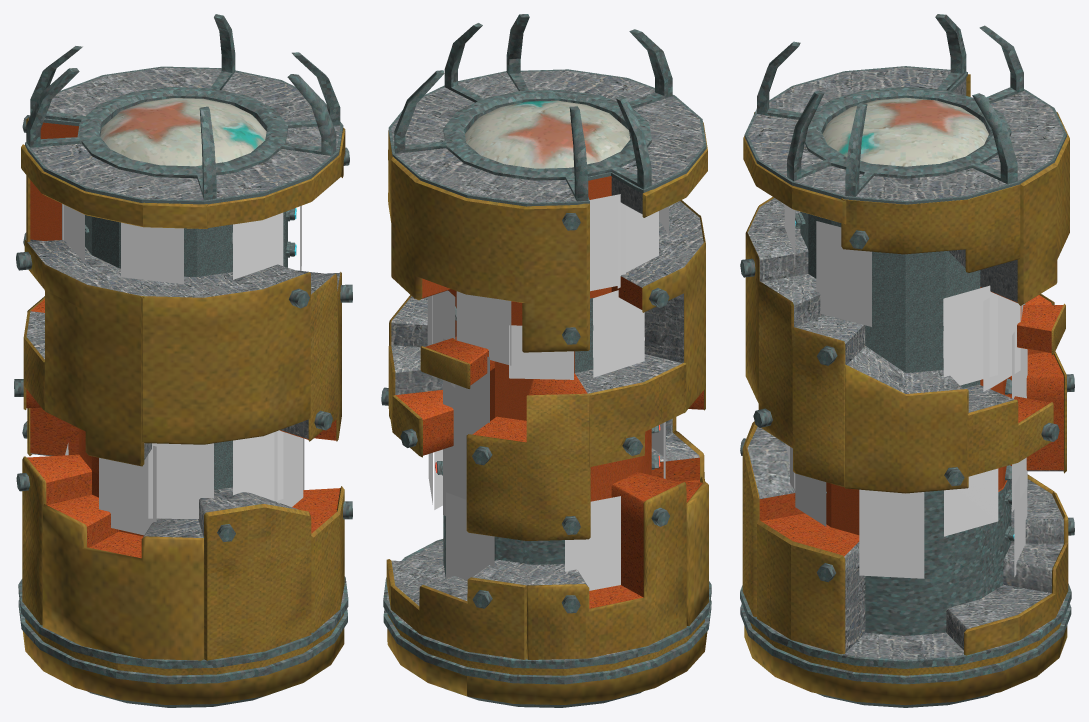
The model's file is reversegravitytowerinside.dae.
The picture shows the model from 3 angles, left to right: view 1: azimuth 30°, elevation 25°; view 2: azimuth 150°, elevation 25°; view 3: azimuth 270°, elevation 25°; orthographic projection.
Visible parts, largest first — view 1: n9b5, n10b6, n4b1, n11b3, n2b10, n1b4, n0b7, n8b8, n7b0, n3b2; view 2: n9b5, n10b6, n11b3, n4b1, n8b8, n1b4, n2b10, n0b7, n3b2, n7b0; view 3: n9b5, n11b3, n10b6, n4b1, n7b0, n2b10, n0b7, n8b8, n1b4, n3b2.
Boxes of the visible parts, x1,y1,x2,y2 form: n9b5: (23, 117, 345, 704); n10b6: (21, 127, 343, 660); n4b1: (14, 14, 352, 707); n11b3: (24, 67, 344, 659); n2b10: (62, 204, 304, 518); n1b4: (26, 122, 340, 558); n0b7: (100, 98, 266, 166); n8b8: (63, 204, 303, 535); n7b0: (85, 211, 287, 489); n3b2: (78, 428, 143, 536); n9b5: (386, 157, 708, 704); n10b6: (388, 122, 707, 659); n11b3: (387, 70, 703, 659); n4b1: (381, 14, 711, 707); n8b8: (427, 194, 665, 590); n1b4: (395, 276, 703, 608); n2b10: (432, 196, 668, 580); n0b7: (464, 100, 630, 168); n3b2: (448, 176, 651, 501); n7b0: (443, 297, 594, 578); n9b5: (743, 112, 1069, 705); n11b3: (747, 67, 1066, 659); n10b6: (742, 74, 1066, 616); n4b1: (740, 14, 1074, 707); n7b0: (800, 211, 1011, 635); n2b10: (784, 204, 1027, 578); n0b7: (822, 97, 988, 166); n8b8: (790, 295, 1027, 536); n1b4: (759, 287, 1063, 556); n3b2: (826, 287, 1051, 534).
Bounding box in the file's own units: 2514 × 4926 × 2539.
